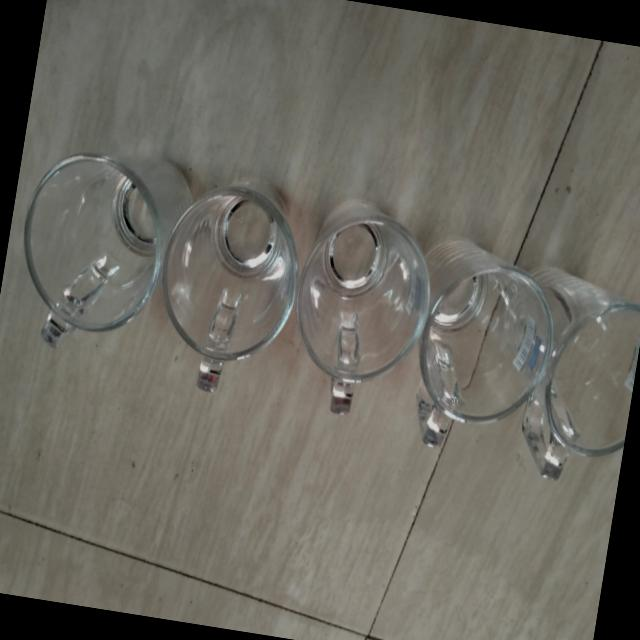glass-VX4N: (140, 162, 330, 406), (6, 138, 204, 370), (392, 230, 564, 464), (278, 187, 445, 425), (491, 259, 640, 494)
